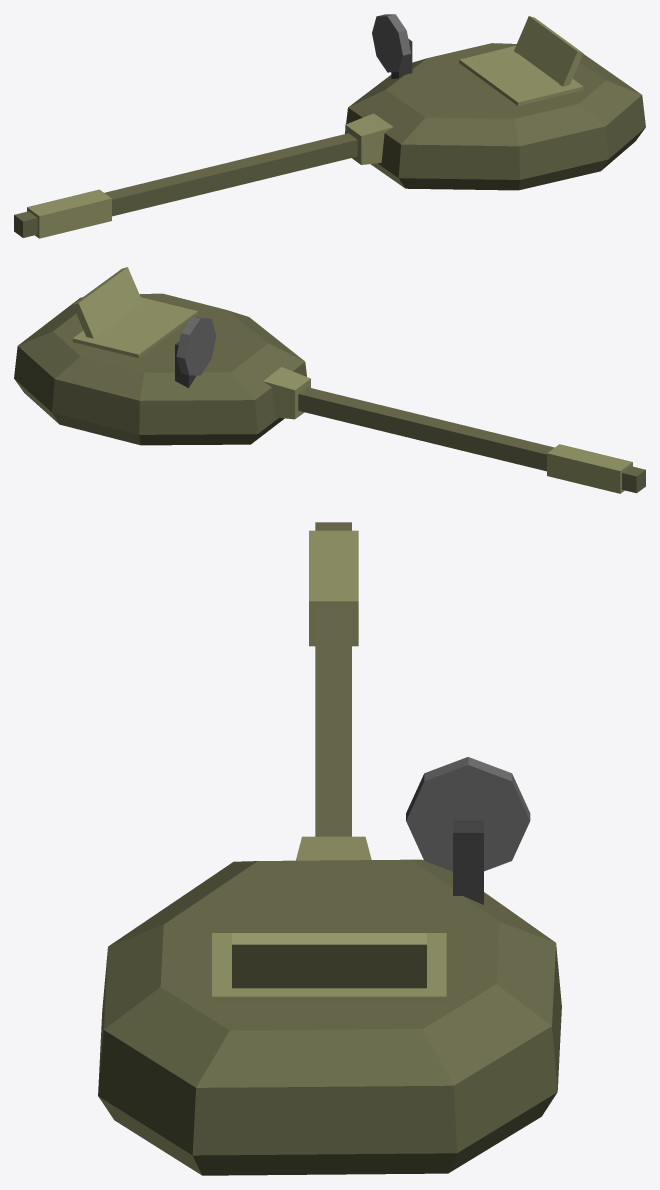
File: Big Gun.fbx
The picture shows the model from 3 angles, top to bottom: view 1: azimuth 30°, elevation 25°; view 2: azimuth 150°, elevation 25°; view 3: azimuth 270°, elevation 25°; orthographic projection. The views are drawn at different scales.
Visible parts, largest first — view 1: Cube.001; view 2: Cube.001; view 3: Cube.001.
Boxes of the visible parts, x1,y1,x2,y2 form: Cube.001: (14, 14, 645, 238); Cube.001: (14, 267, 645, 493); Cube.001: (98, 522, 561, 1175).
Size of the model in its own units: 910 by 177 by 309.
